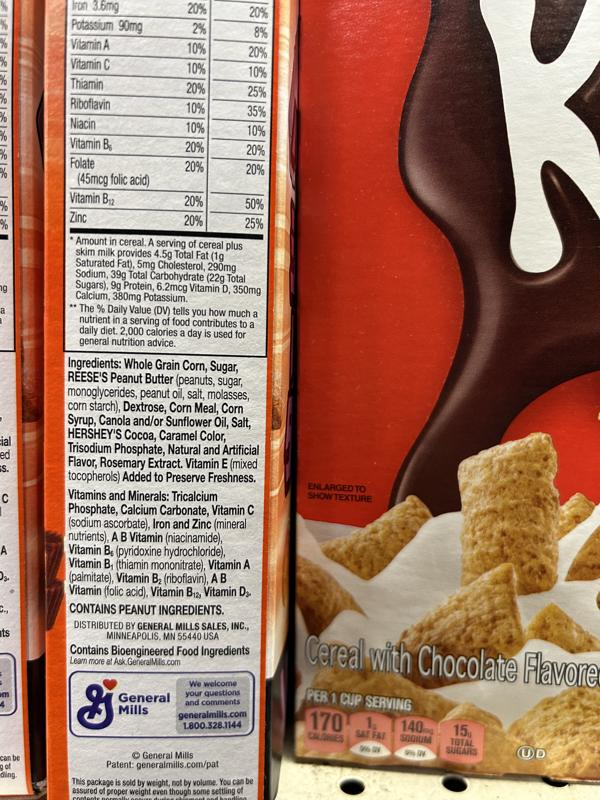ingredients: (65, 356, 261, 485)
